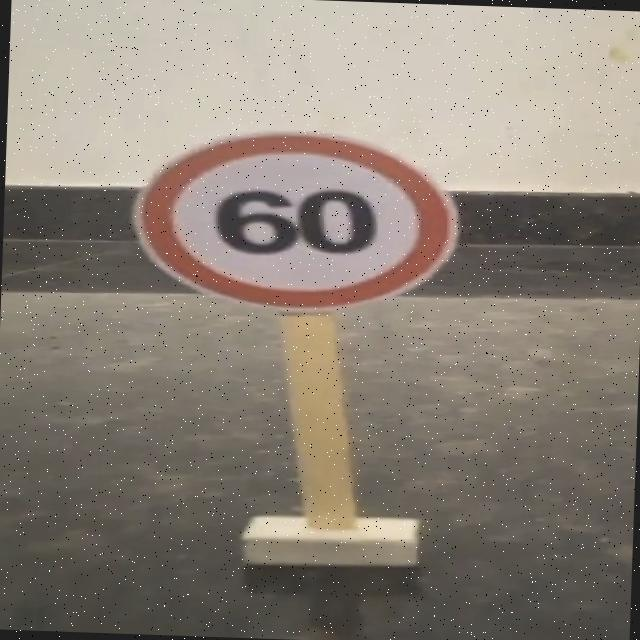Speed60: (115, 113, 473, 326)
